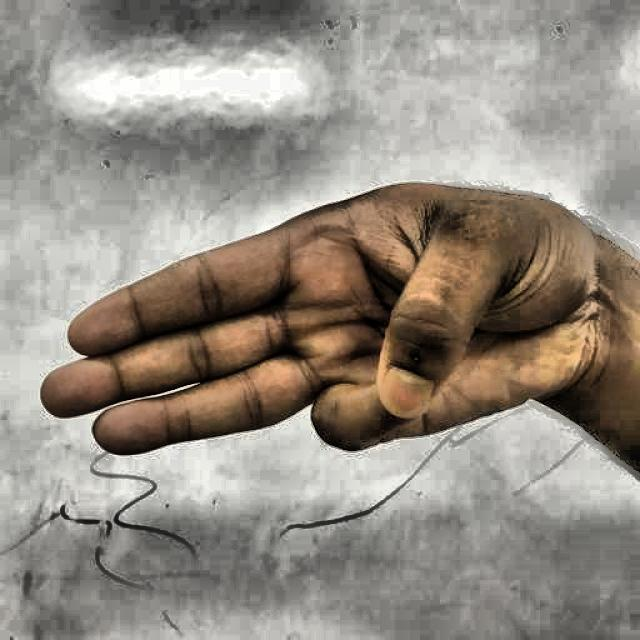Ma: (17, 170, 620, 530)
